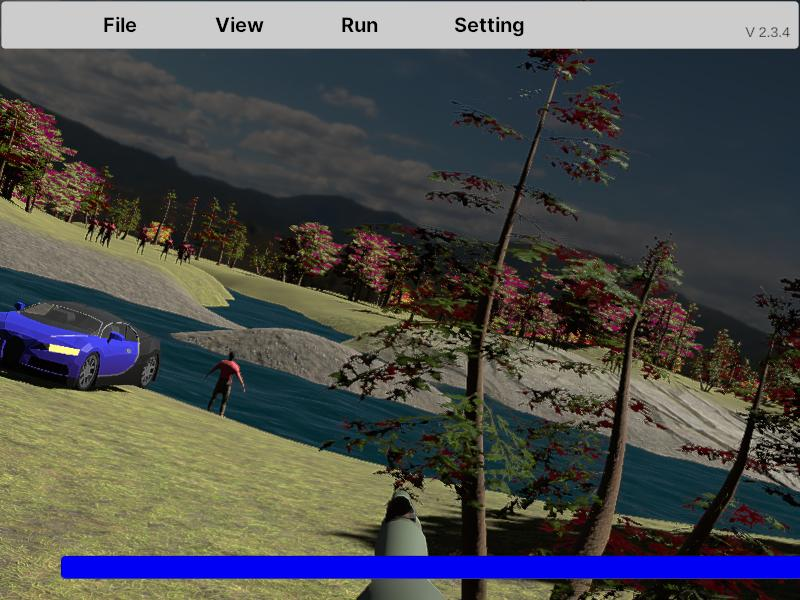Human: (204, 348, 245, 426), (204, 348, 245, 424)
car: (0, 300, 161, 393)
